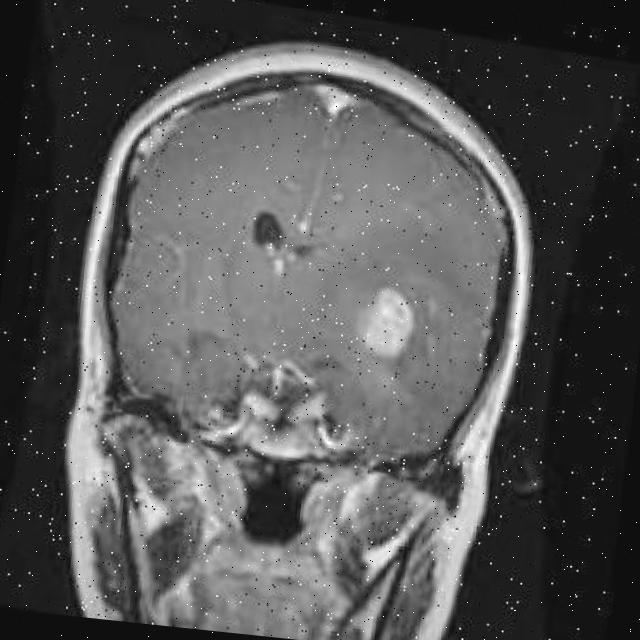EMCI: (268, 248, 482, 399)
